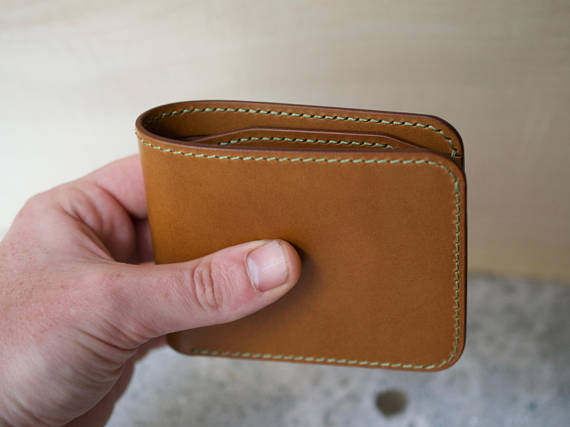monedero: (132, 98, 472, 374)
